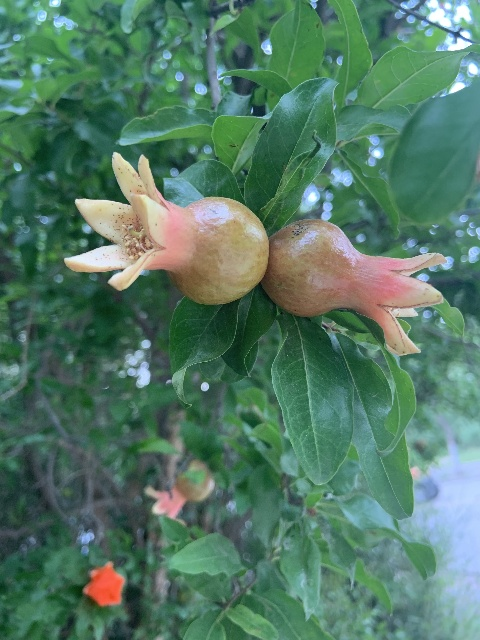early-fruit: (70, 152, 266, 303), (263, 218, 446, 356)
flower: (83, 562, 125, 606)
mid-growth: (145, 459, 213, 526)
